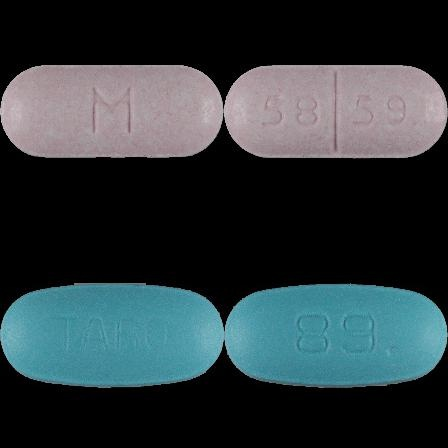51655-163: (0, 0, 224, 224)
